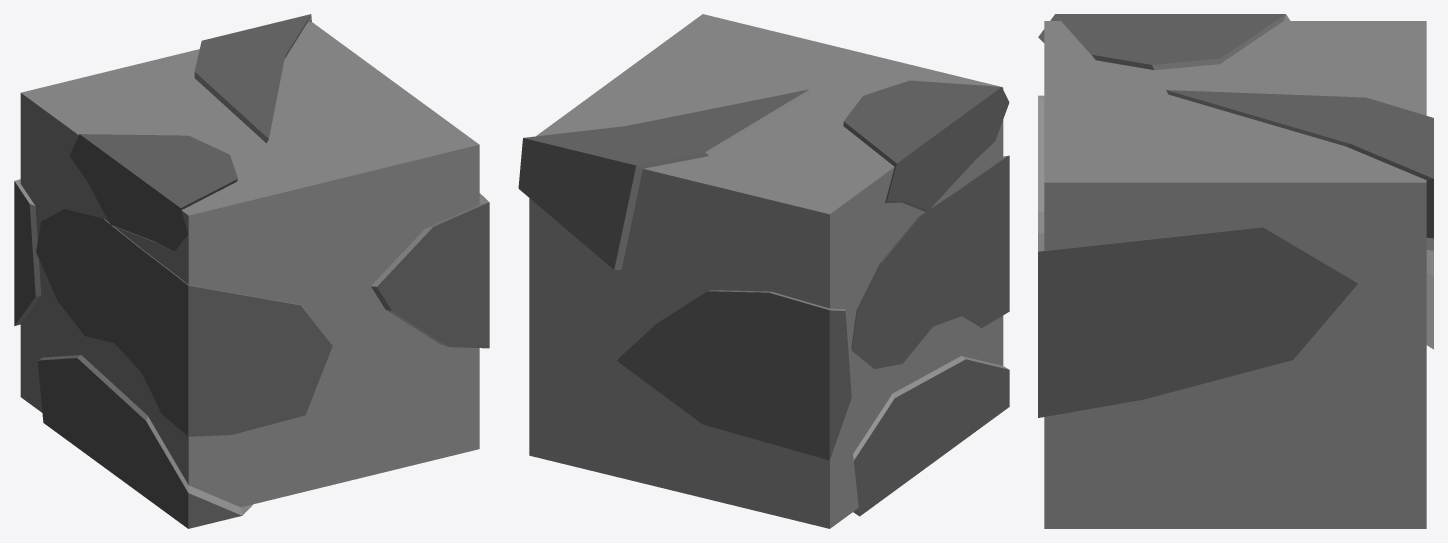
Rendered from tileableWallCube.glb.
3 views of the same model, side by side, from view 1: azimuth 30°, elevation 25°; view 2: azimuth 150°, elevation 25°; view 3: azimuth 270°, elevation 25° (orthographic). The views are drawn at different scales.
Visible parts, largest first — view 1: Cube; view 2: Cube; view 3: Cube.
Boxes of the visible parts, x1=… form: Cube: x1=14, y1=14, x2=489, y2=528; Cube: x1=518, y1=14, x2=1009, y2=528; Cube: x1=1038, y1=14, x2=1433, y2=528.
Bounding box in the file's own units: 1.04 × 1.04 × 1.04.
Materials: 1 (1 with a texture image).
